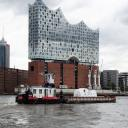tugboat: (16, 72, 66, 107)
